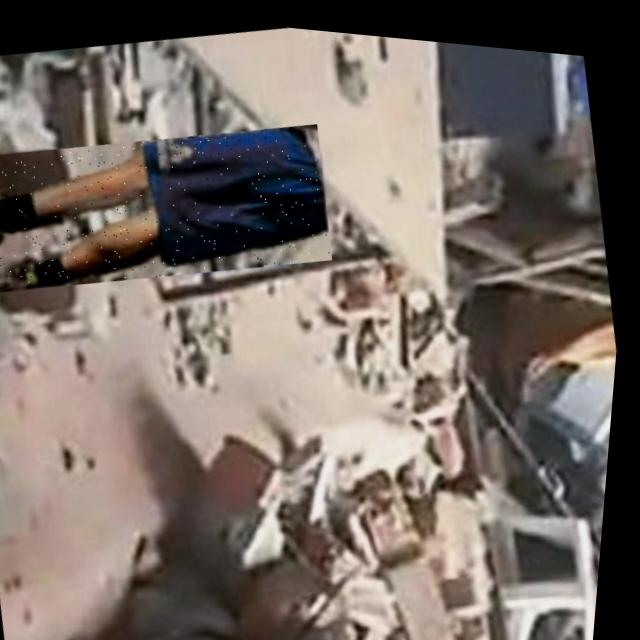Person in Rubble: (0, 93, 344, 319)
